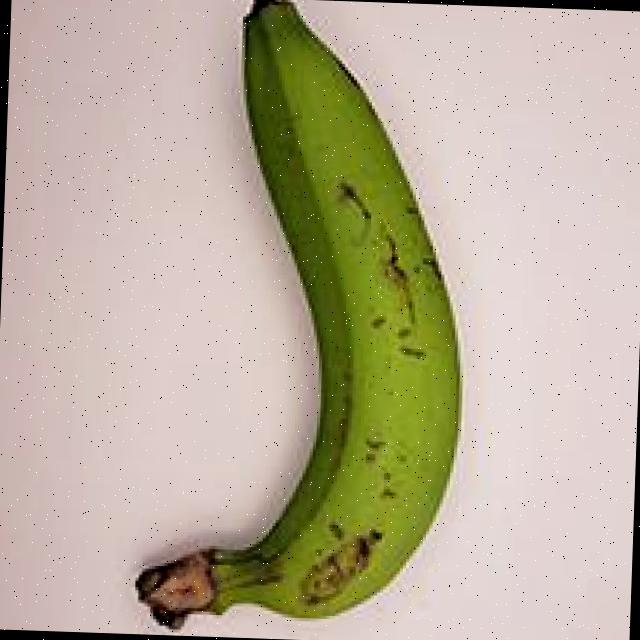Raw: (99, 0, 500, 639)
